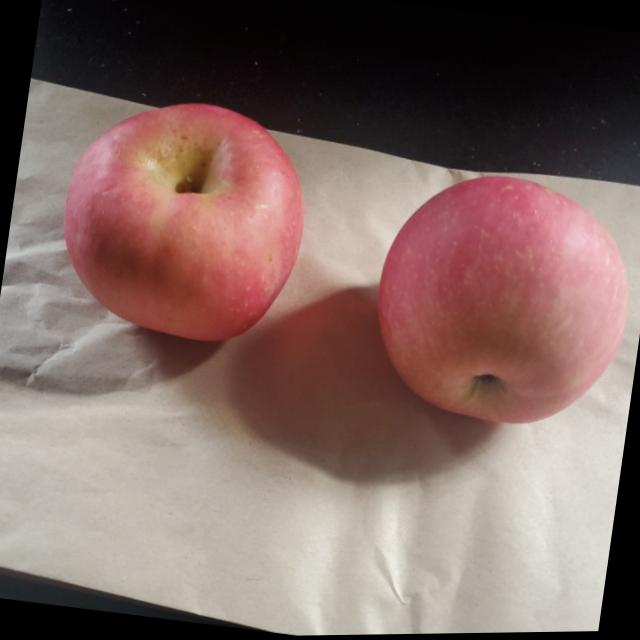apple: (364, 161, 640, 450), (44, 88, 317, 359)
